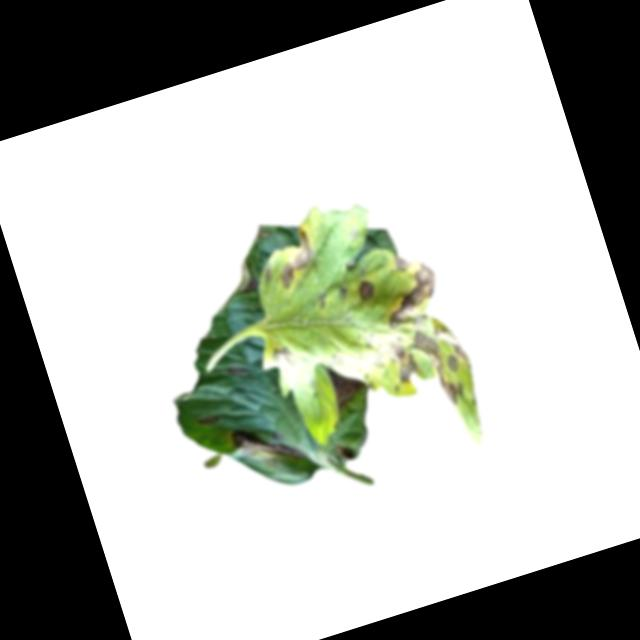Early_blight: (358, 244, 481, 420), (227, 409, 304, 485), (264, 228, 322, 292), (320, 355, 367, 410), (266, 342, 301, 378), (353, 276, 377, 303)
